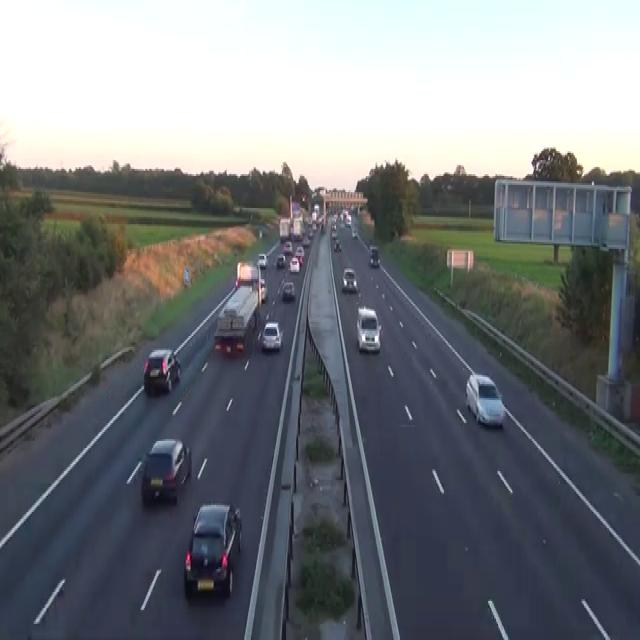Car: (183, 502, 242, 598), (140, 437, 191, 505), (465, 372, 505, 426), (143, 346, 181, 394), (356, 306, 382, 352), (258, 322, 283, 352), (235, 261, 258, 290), (341, 266, 357, 292), (281, 281, 295, 300), (369, 244, 379, 266), (259, 278, 267, 302), (295, 245, 304, 265), (257, 252, 267, 268), (289, 256, 299, 272), (276, 252, 285, 266), (283, 240, 292, 252), (317, 213, 324, 226), (333, 240, 341, 251), (302, 237, 310, 246), (307, 226, 313, 238), (351, 228, 358, 238), (345, 215, 351, 226), (331, 228, 337, 238), (312, 220, 317, 230), (331, 219, 336, 229), (320, 222, 324, 233), (259, 230, 262, 238)
Truck: (213, 282, 260, 354)
